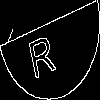R: (25, 25, 57, 80)
